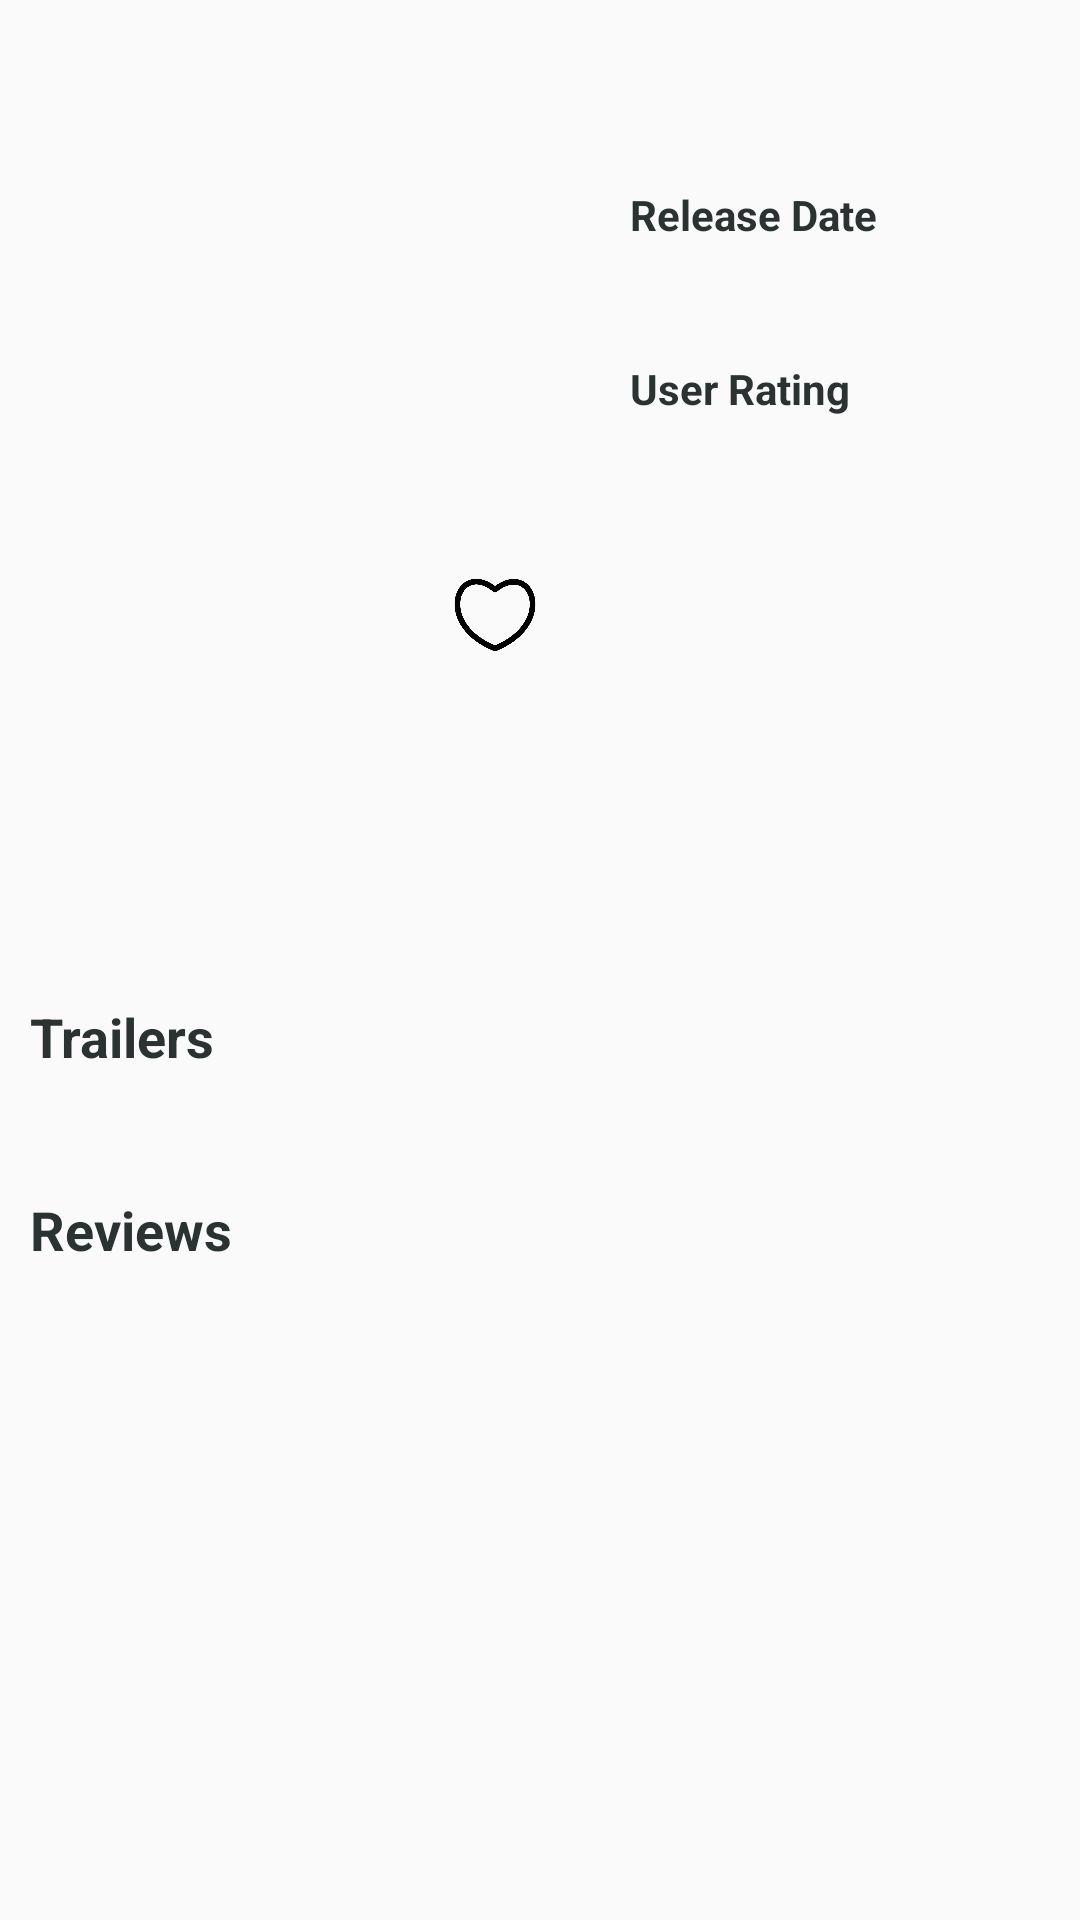

Screen size 1080 × 1920. Icon name, then its center in pixels as [x,y]:
heart: [495,615]
